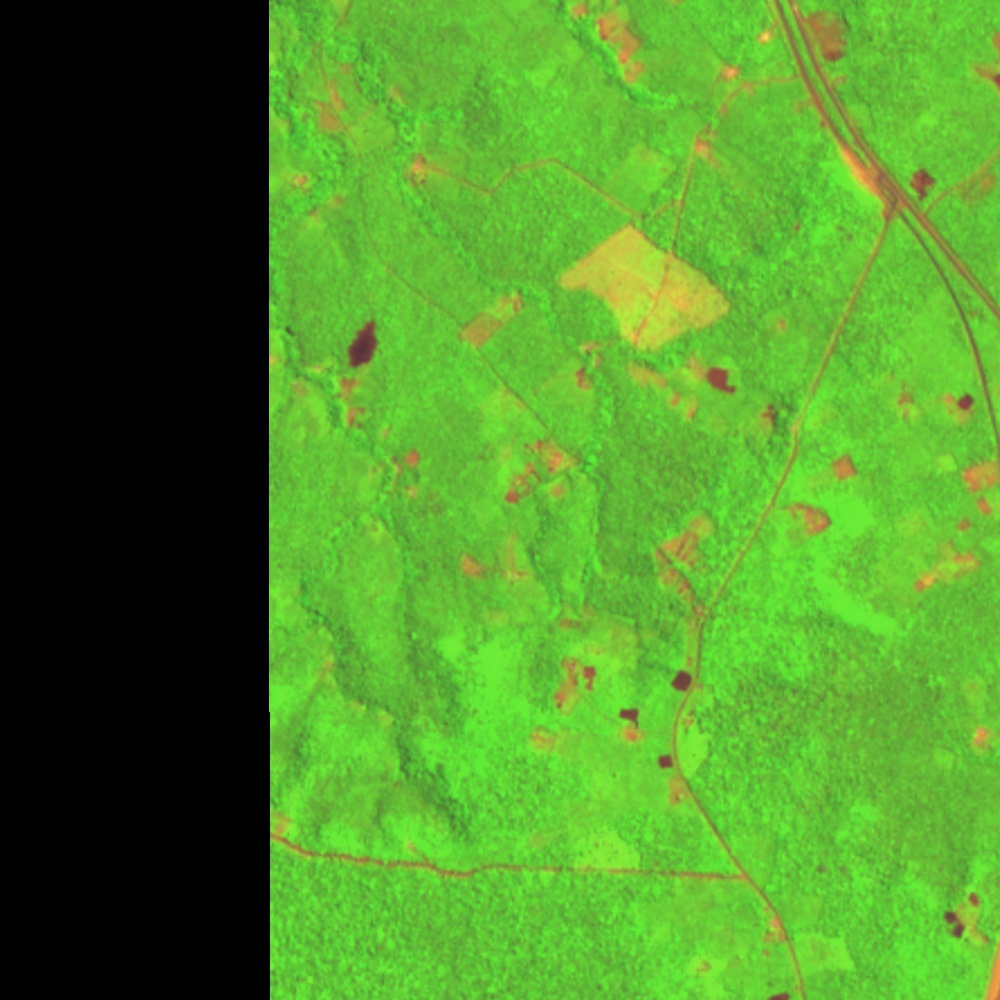legal: (554, 221, 731, 356), (454, 427, 586, 588), (909, 453, 1000, 592), (521, 641, 602, 758), (612, 667, 697, 777), (562, 357, 735, 408), (659, 509, 719, 638), (775, 453, 858, 541), (564, 1, 642, 89), (335, 311, 391, 431), (458, 285, 530, 354), (761, 910, 802, 1000), (896, 380, 976, 423), (371, 443, 424, 506), (797, 2, 850, 65), (269, 345, 324, 399), (942, 890, 991, 947), (396, 145, 442, 194), (974, 32, 1000, 93), (910, 164, 938, 201)
